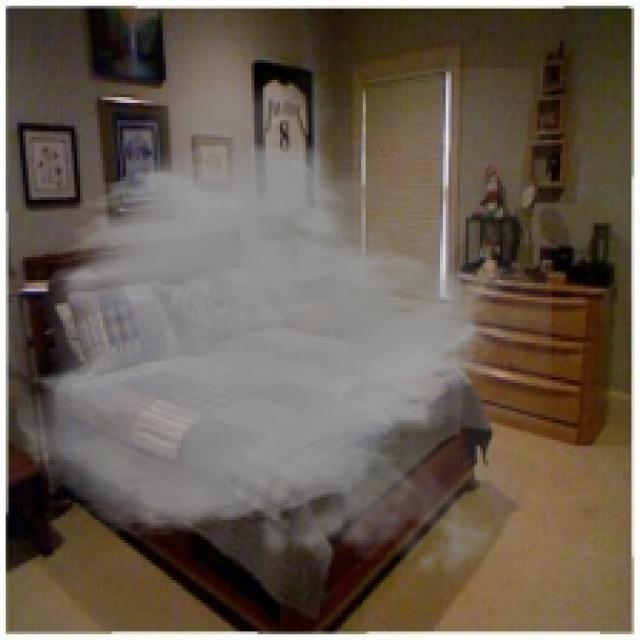Smoke: (11, 69, 552, 592)
